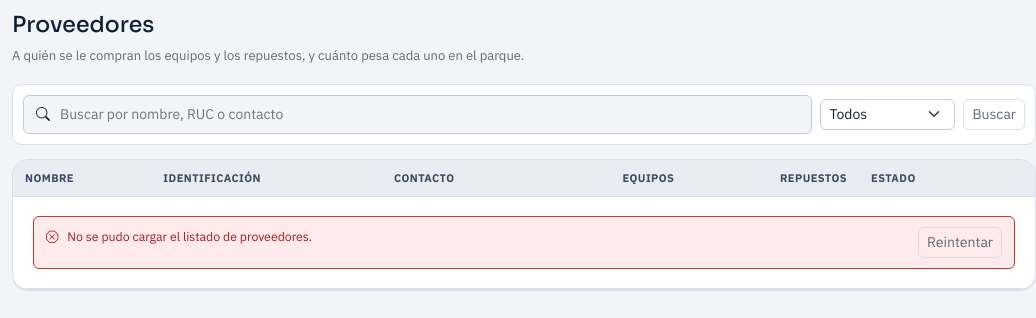
Proveedores › si no carga lo dice, sin filas a medias, y deja reintentar
Expected: the message shows "No se pudo cargar el listado de proveedores.", [67,228,312,244]
What coordinates should you click on to do the following:
click the button "Reintentar"
I would click on:
 (960, 243)
Its box is [918,227,1002,258].
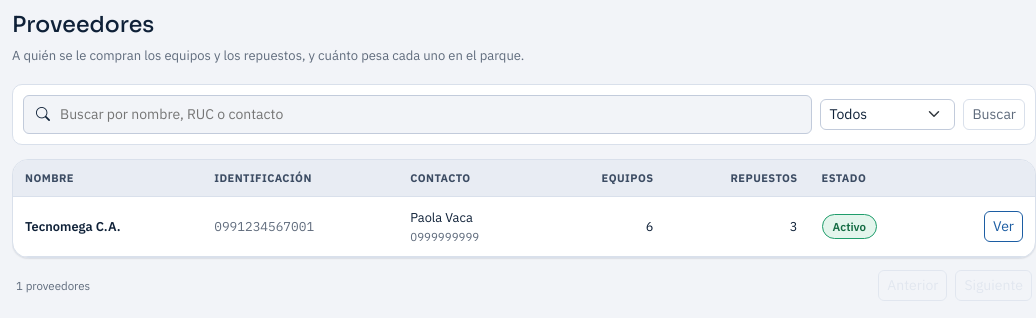
Result: the text "Tecnomega C.A." is shown at [13,197,202,256]
Result: the message "No se pudo cargar el listado de proveedores. Reintentar" is gone
